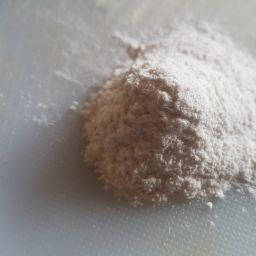Plain flour: (49, 24, 235, 217), (101, 12, 256, 218), (7, 67, 206, 198)
